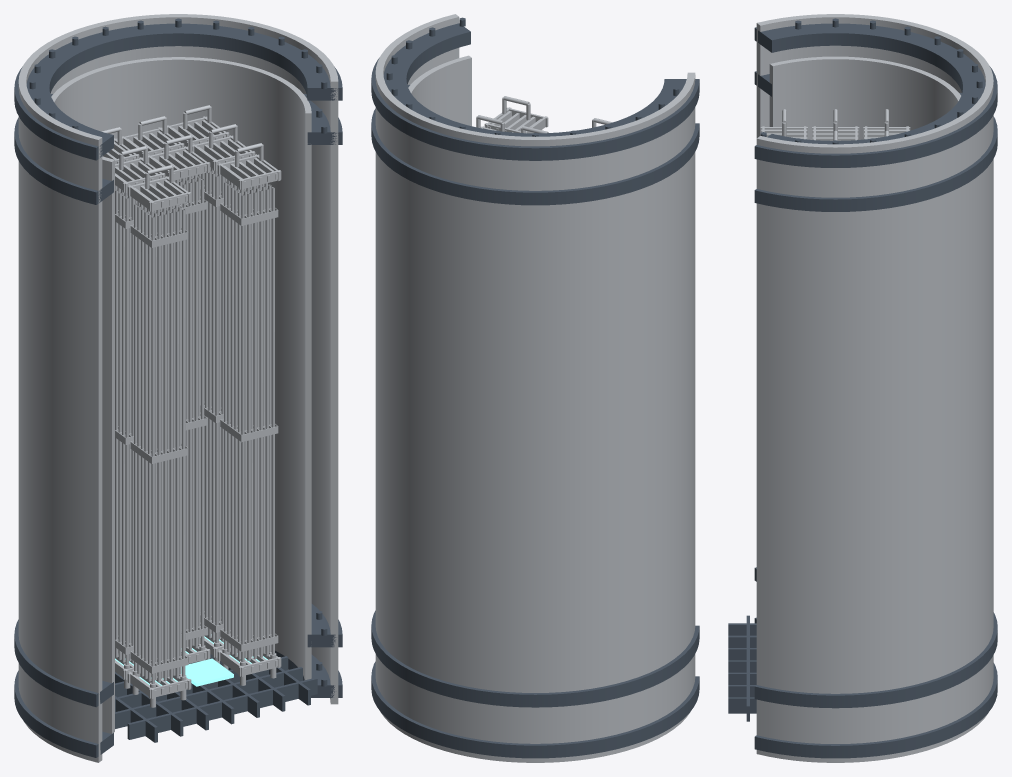
The model's file is VesselInternals.fbx.
3 views of the same model, side by side, from view 1: azimuth 30°, elevation 25°; view 2: azimuth 150°, elevation 25°; view 3: azimuth 270°, elevation 25° (orthographic).
Visible parts, largest first — view 1: RS_VES_CoreBarrel_01_LOD0, RS_VES_ThermalShield_01_LOD0, RS_VES_FuelRodLattice_01_LOD0, RS_VES_FuelRodLattice_03_LOD0, RS_VES_FuelRodLattice_02_LOD0, RS_VES_FuelRodLattice_05_LOD0, RS_VES_FuelRodLattice_04_LOD0, RS_VES_SpacerNozzle_01_LOD0, RS_VES_SpacerNozzle_03_LOD0, RS_VES_SpacerNozzle_02_LOD0, RS_VES_SpacerNozzle_05_LOD0, RS_VES_SpacerNozzle_04_LOD0 (+3 smaller); view 2: RS_VES_CoreBarrel_01_LOD0, RS_VES_ThermalShield_01_LOD0, RS_VES_SpacerNozzle_03_LOD0; view 3: RS_VES_CoreBarrel_01_LOD0, RS_VES_ThermalShield_01_LOD0, RS_VES_SpacerNozzle_04_LOD0, RS_VES_SpacerNozzle_01_LOD0, RS_VES_SpacerNozzle_06_LOD0.
Part boxes in pixels (x1,y1,x2,y2): RS_VES_CoreBarrel_01_LOD0: (18,14,338,762); RS_VES_ThermalShield_01_LOD0: (14,18,342,757); RS_VES_FuelRodLattice_01_LOD0: (134,203,185,684); RS_VES_FuelRodLattice_03_LOD0: (224,181,274,662); RS_VES_FuelRodLattice_02_LOD0: (174,175,204,650); RS_VES_FuelRodLattice_05_LOD0: (198,167,229,643); RS_VES_FuelRodLattice_04_LOD0: (115,185,143,665); RS_VES_SpacerNozzle_01_LOD0: (127,165,191,707); RS_VES_SpacerNozzle_03_LOD0: (217,143,281,685); RS_VES_SpacerNozzle_02_LOD0: (148,135,210,663); RS_VES_SpacerNozzle_05_LOD0: (192,124,255,663); RS_VES_SpacerNozzle_04_LOD0: (115,146,165,688); RS_VES_CoreBarrel_01_LOD0: (375,14,695,762); RS_VES_ThermalShield_01_LOD0: (371,17,699,758); RS_VES_SpacerNozzle_03_LOD0: (484,96,548,133); RS_VES_CoreBarrel_01_LOD0: (756,14,993,762); RS_VES_ThermalShield_01_LOD0: (728,18,997,758); RS_VES_SpacerNozzle_04_LOD0: (812,109,859,140); RS_VES_SpacerNozzle_01_LOD0: (760,109,807,139); RS_VES_SpacerNozzle_06_LOD0: (863,109,910,139).
Size of what is drawn, in the model's own units: 2.34 by 4.9 by 1.95.
